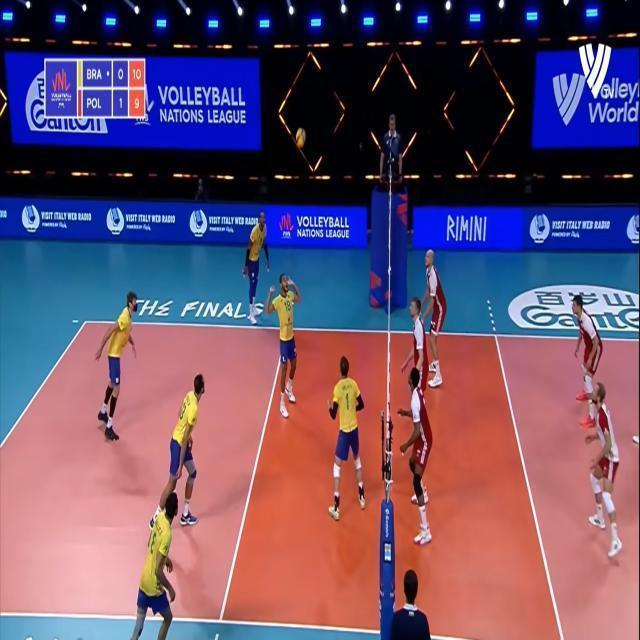volleyball: (296, 128, 306, 148)
